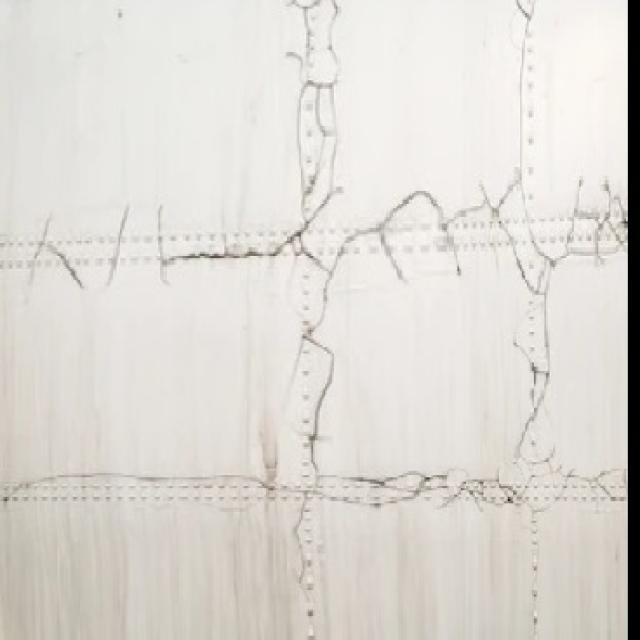crack: (2, 174, 640, 300), (6, 463, 638, 520), (292, 3, 346, 596), (514, 3, 556, 478)
